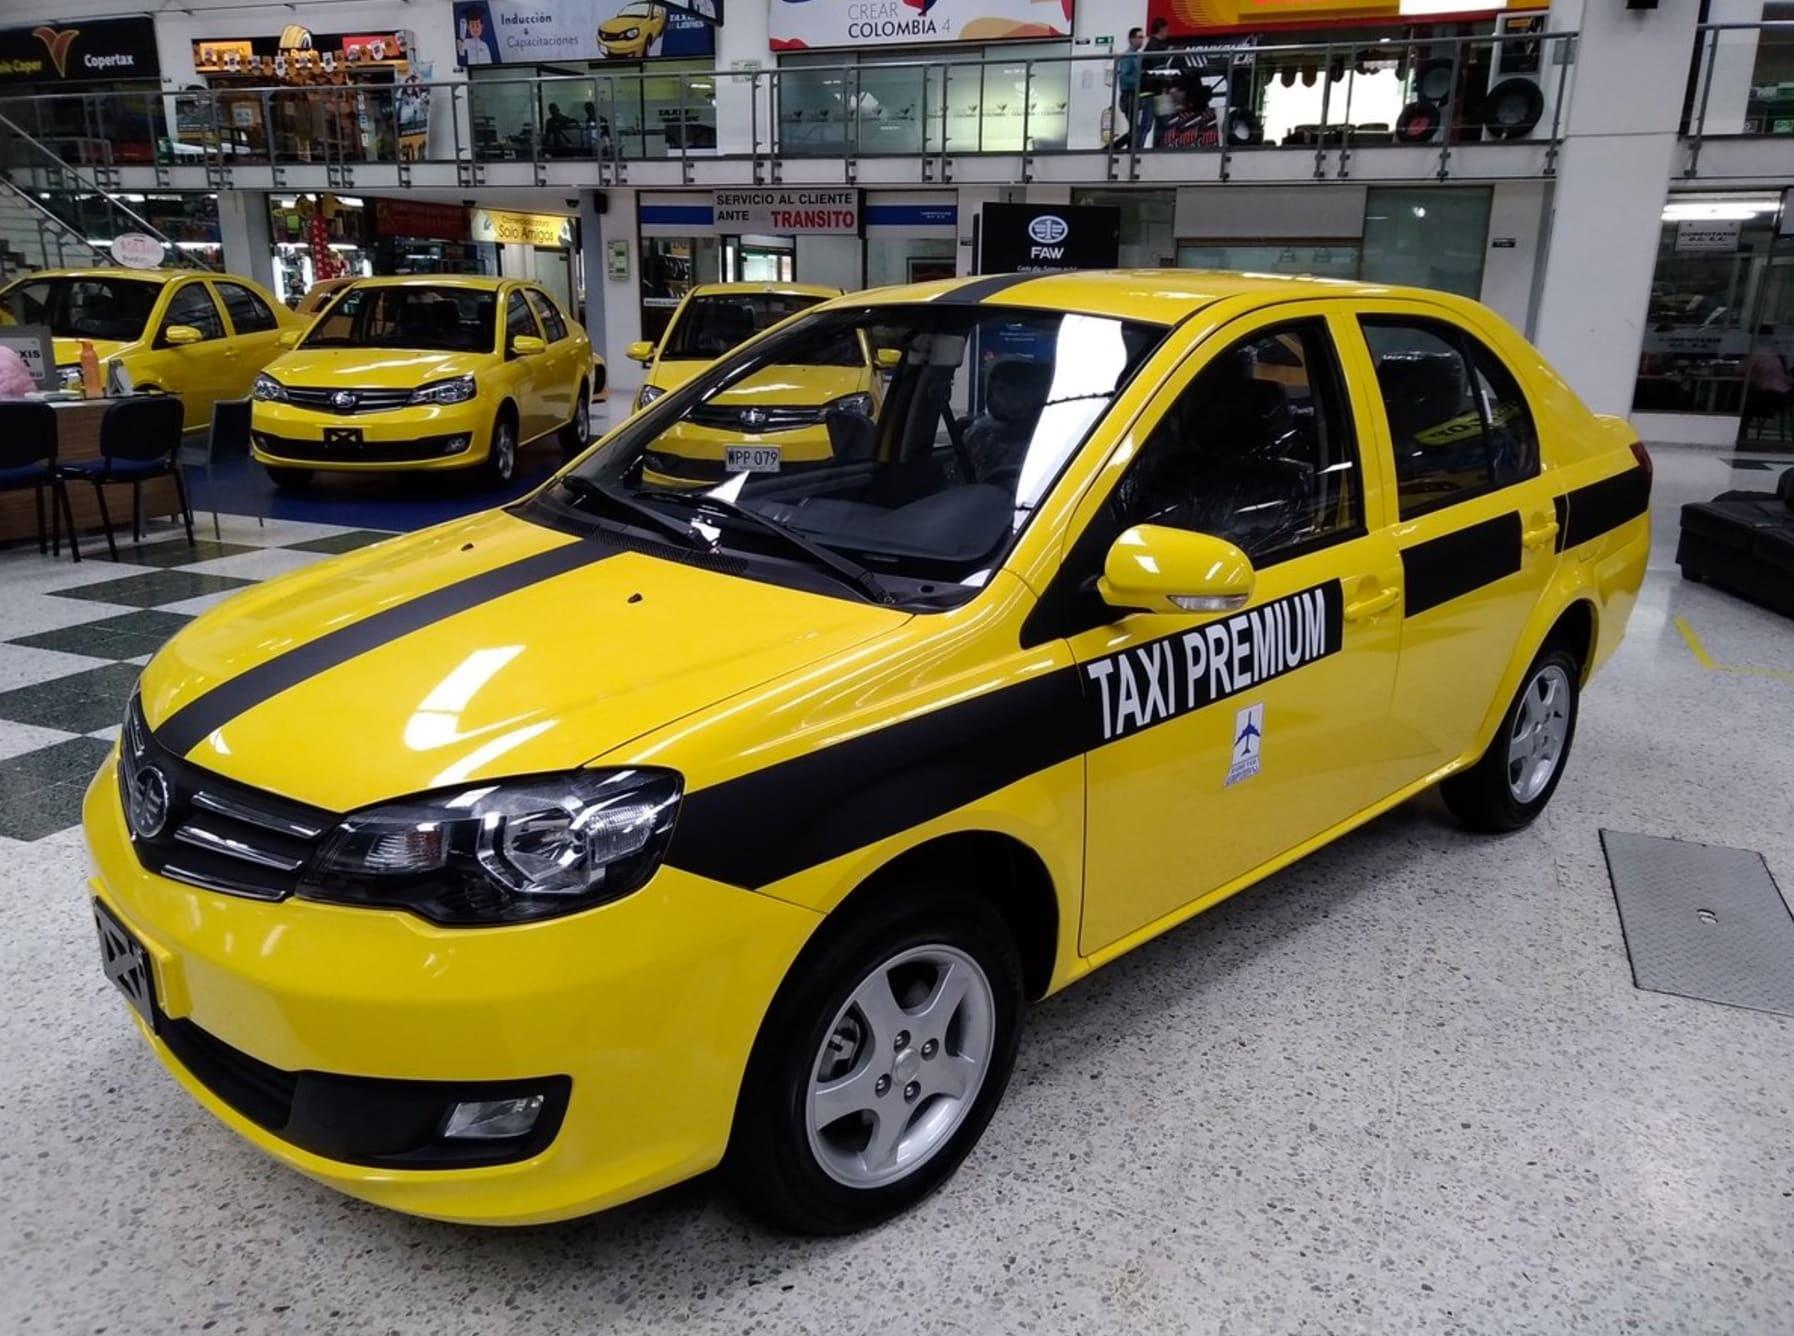taxi: (63, 314, 1714, 1203)
